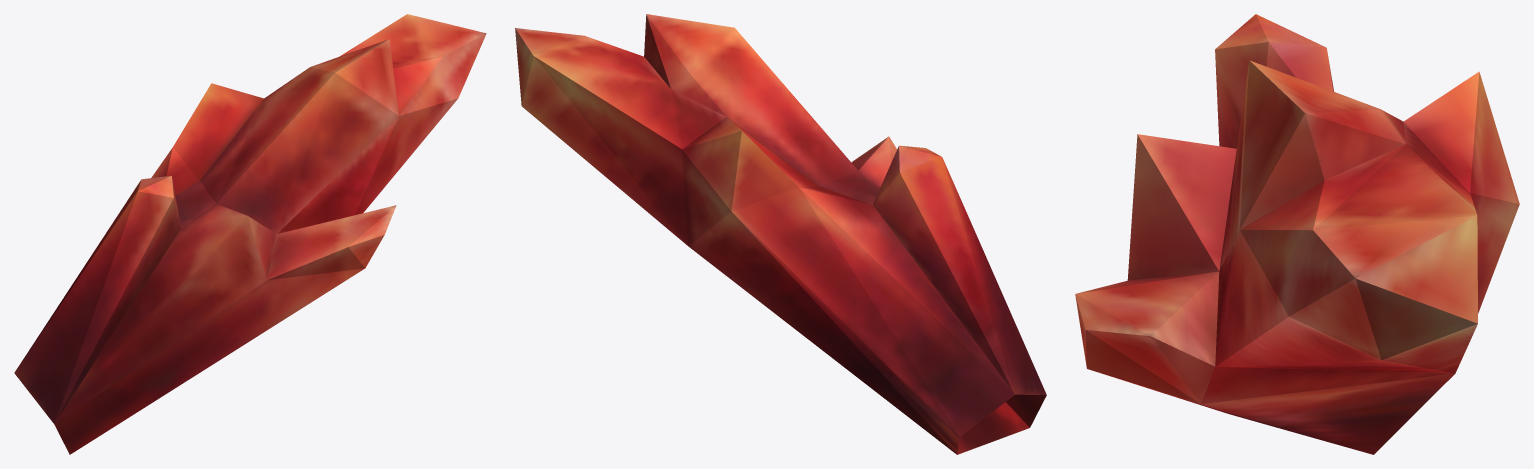
The model's file is shuijing_04.FBX.
3 renders of one model, left to right at view 1: azimuth 30°, elevation 25°; view 2: azimuth 150°, elevation 25°; view 3: azimuth 270°, elevation 25°, orthographic. The views are drawn at different scales.
Parts seen in each view (by area): view 1: shuijing_04; view 2: shuijing_04; view 3: shuijing_04.
Boxes of the visible parts, x1=… form: shuijing_04: x1=14, y1=14, x2=486, y2=454; shuijing_04: x1=515, y1=14, x2=1046, y2=454; shuijing_04: x1=1075, y1=14, x2=1519, y2=454.
Bounding box in the file's own units: 3.46 × 2.29 × 1.45.
